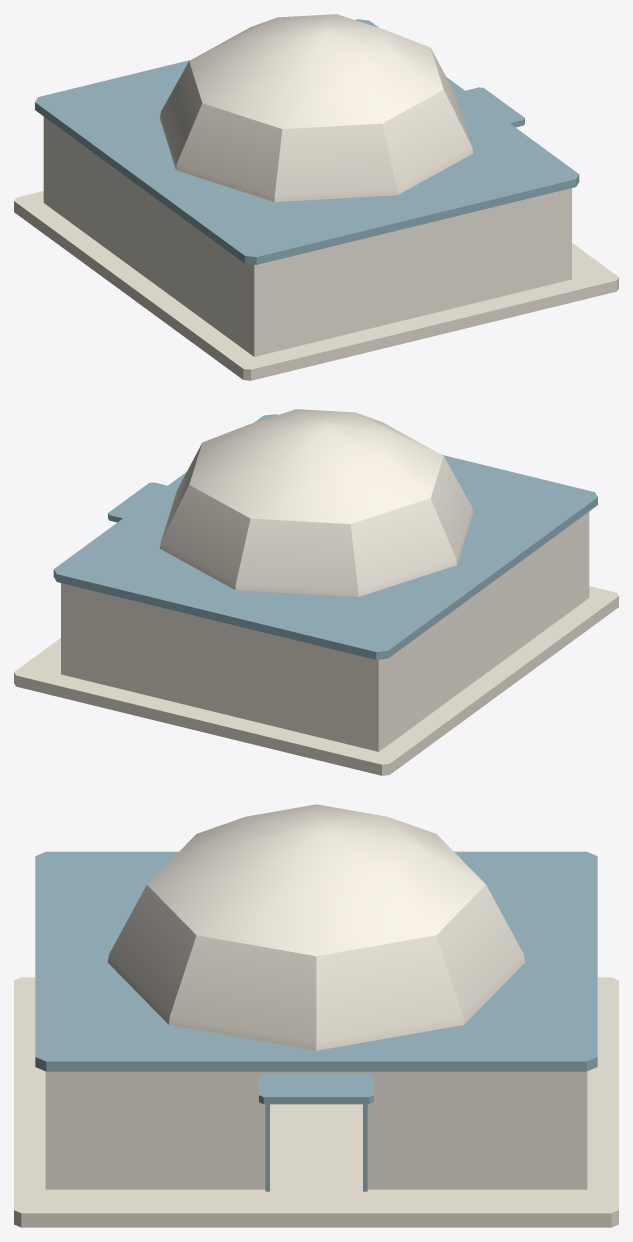
File: RibDome_6p5m_v4_ShadowProxy.glb
3 renders of one model, top to bottom at view 1: azimuth 30°, elevation 25°; view 2: azimuth 150°, elevation 25°; view 3: azimuth 270°, elevation 25°, orthographic. The views are drawn at different scales.
Parts seen in each view (by area): view 1: RibDome_6p5m_v4_ShadowProxy / Structure, RibDome_6p5m_v4_ShadowProxy / Radar dome, RibDome_6p5m_v4_ShadowProxy / Equipment deck, RibDome_6p5m_v4_ShadowProxy / Foundation, RibDome_6p5m_v4_ShadowProxy / Entrance modules; view 2: RibDome_6p5m_v4_ShadowProxy / Structure, RibDome_6p5m_v4_ShadowProxy / Radar dome, RibDome_6p5m_v4_ShadowProxy / Equipment deck, RibDome_6p5m_v4_ShadowProxy / Foundation, RibDome_6p5m_v4_ShadowProxy / Entrance modules; view 3: RibDome_6p5m_v4_ShadowProxy / Radar dome, RibDome_6p5m_v4_ShadowProxy / Equipment deck, RibDome_6p5m_v4_ShadowProxy / Structure, RibDome_6p5m_v4_ShadowProxy / Foundation, RibDome_6p5m_v4_ShadowProxy / Entrance modules.
Boxes of the visible parts, x1,y1,x2,y2 form: RibDome_6p5m_v4_ShadowProxy / Structure: (43, 117, 571, 356); RibDome_6p5m_v4_ShadowProxy / Radar dome: (160, 14, 472, 201); RibDome_6p5m_v4_ShadowProxy / Equipment deck: (35, 19, 579, 264); RibDome_6p5m_v4_ShadowProxy / Foundation: (14, 191, 618, 380); RibDome_6p5m_v4_ShadowProxy / Entrance modules: (465, 87, 524, 127); RibDome_6p5m_v4_ShadowProxy / Structure: (61, 512, 589, 751); RibDome_6p5m_v4_ShadowProxy / Radar dome: (160, 409, 472, 596); RibDome_6p5m_v4_ShadowProxy / Equipment deck: (53, 414, 597, 659); RibDome_6p5m_v4_ShadowProxy / Foundation: (14, 586, 618, 775); RibDome_6p5m_v4_ShadowProxy / Entrance modules: (108, 482, 167, 522); RibDome_6p5m_v4_ShadowProxy / Radar dome: (107, 804, 525, 1050); RibDome_6p5m_v4_ShadowProxy / Equipment deck: (35, 851, 597, 1071); RibDome_6p5m_v4_ShadowProxy / Structure: (45, 1071, 587, 1189); RibDome_6p5m_v4_ShadowProxy / Foundation: (14, 977, 618, 1227); RibDome_6p5m_v4_ShadowProxy / Entrance modules: (259, 1073, 373, 1219).
Size of the model in its own units: 12 by 6.68 by 13.
